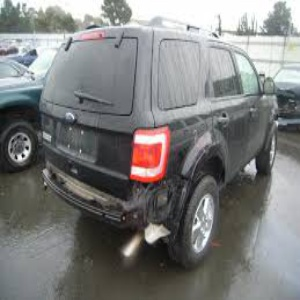bumper: (105, 178, 187, 245)
